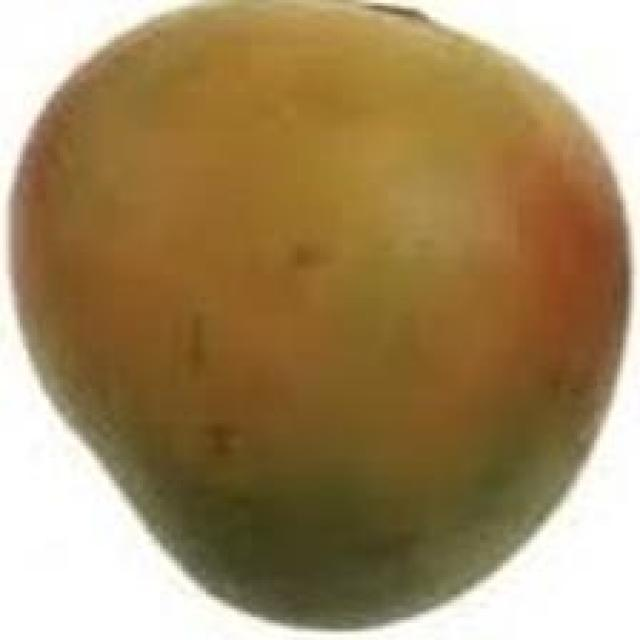Good_Mango: (6, 0, 631, 634)
